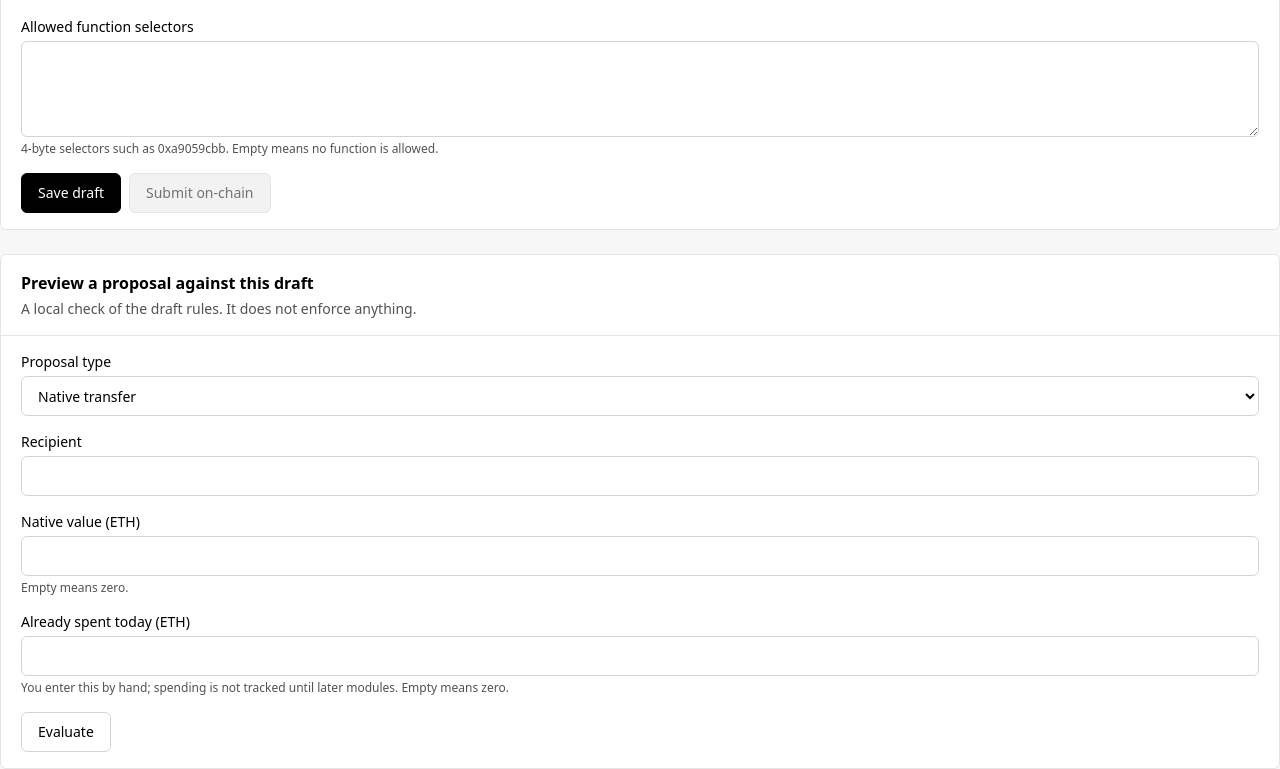
Test: PolicyWorkspace › previews a proposal as preview-only, allowed or denied
(page scrolled)
Check: the text "Preview a proposal against this draft" is shown, box [21,272,314,294]
Type "0x00000000000000000000000000000000000000A1" into the field labelled "Recipient".
click(640, 476); type("0x00000000000000000000000000000000000000A1")  # box [21,456,1259,496]
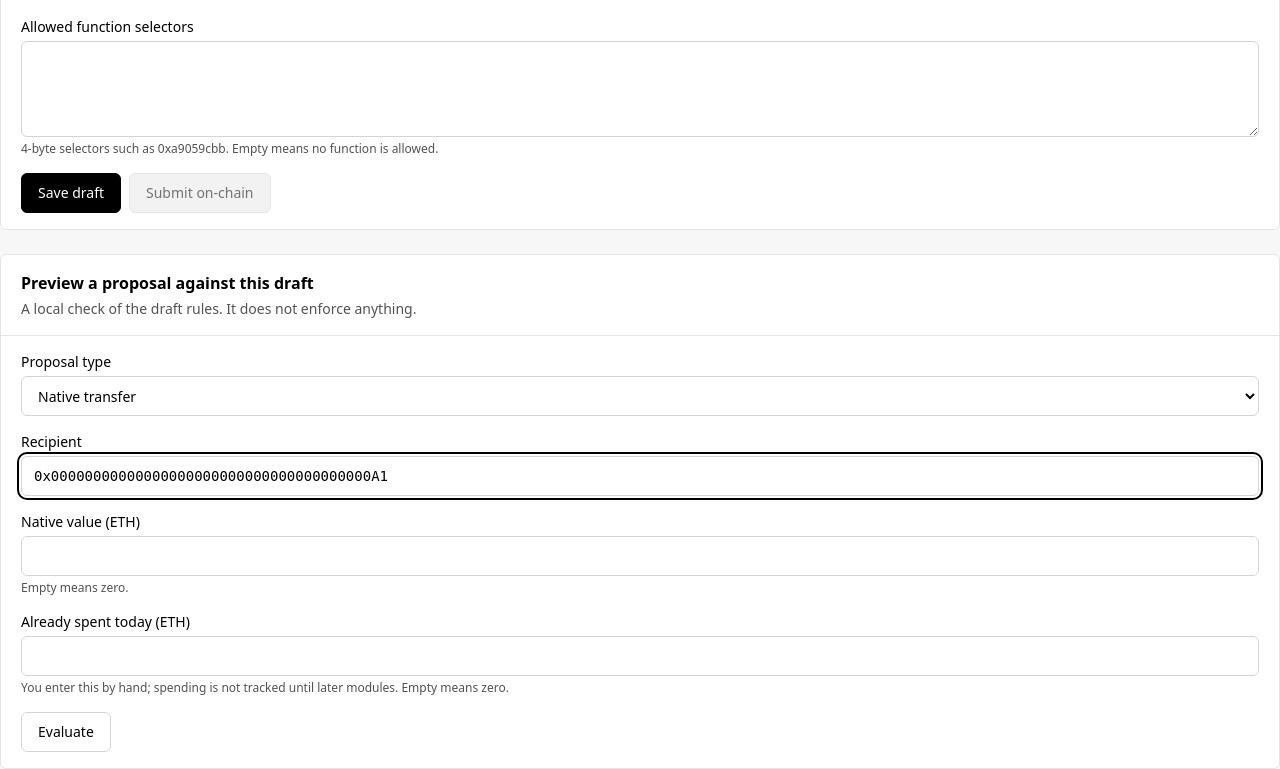
Type "0.05" into the field labelled "Native value (ETH)".
click(640, 556); type("0.05")  # box [21,536,1259,576]
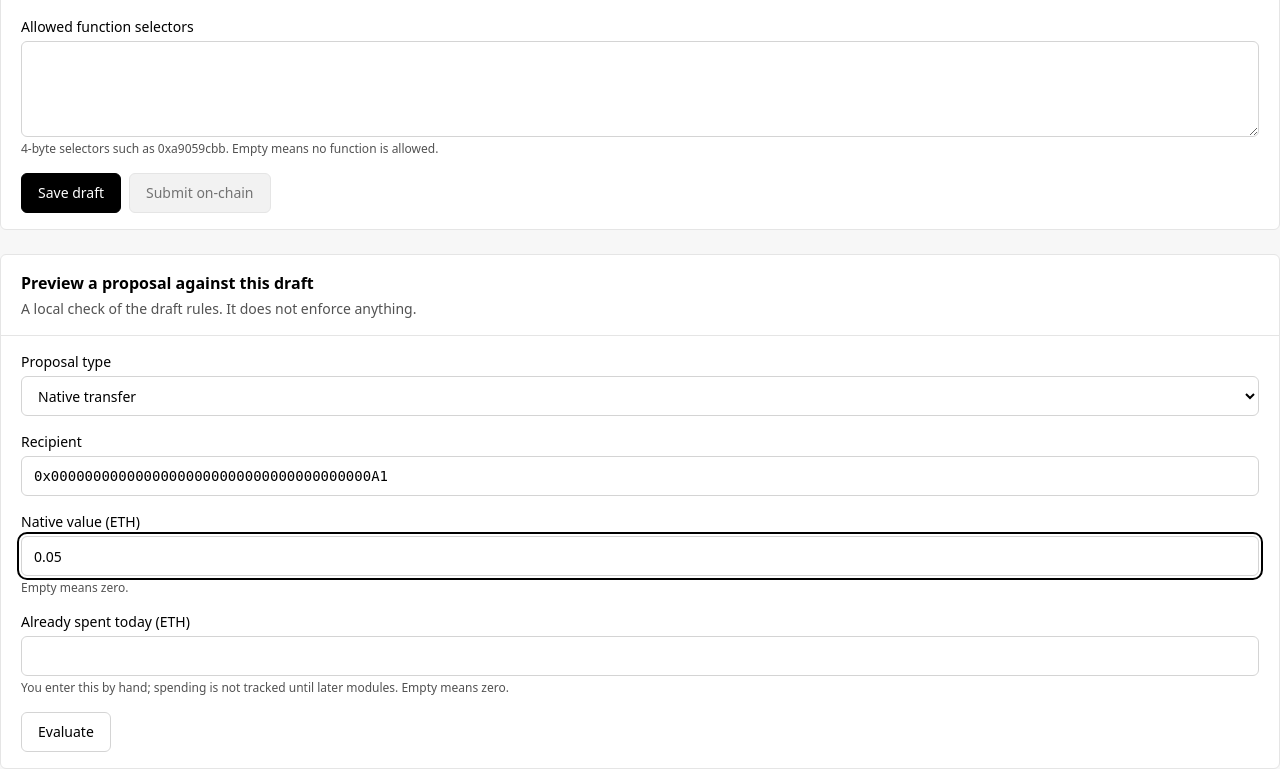
Click the button "Evaluate".
click(66, 732)  # box [21,712,111,752]
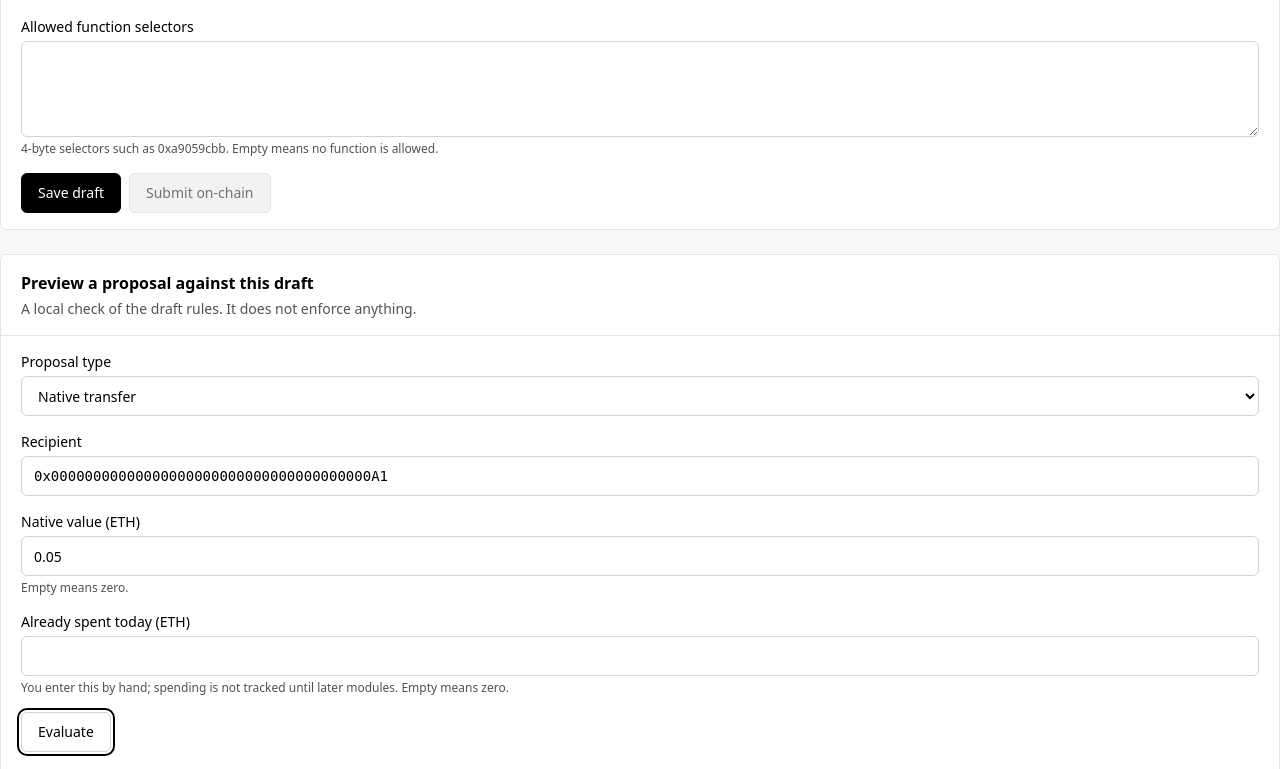
Replace the text in the field labelled "Native value (ETH)" with "0.5" at (640, 556), box [21,536,1259,576]
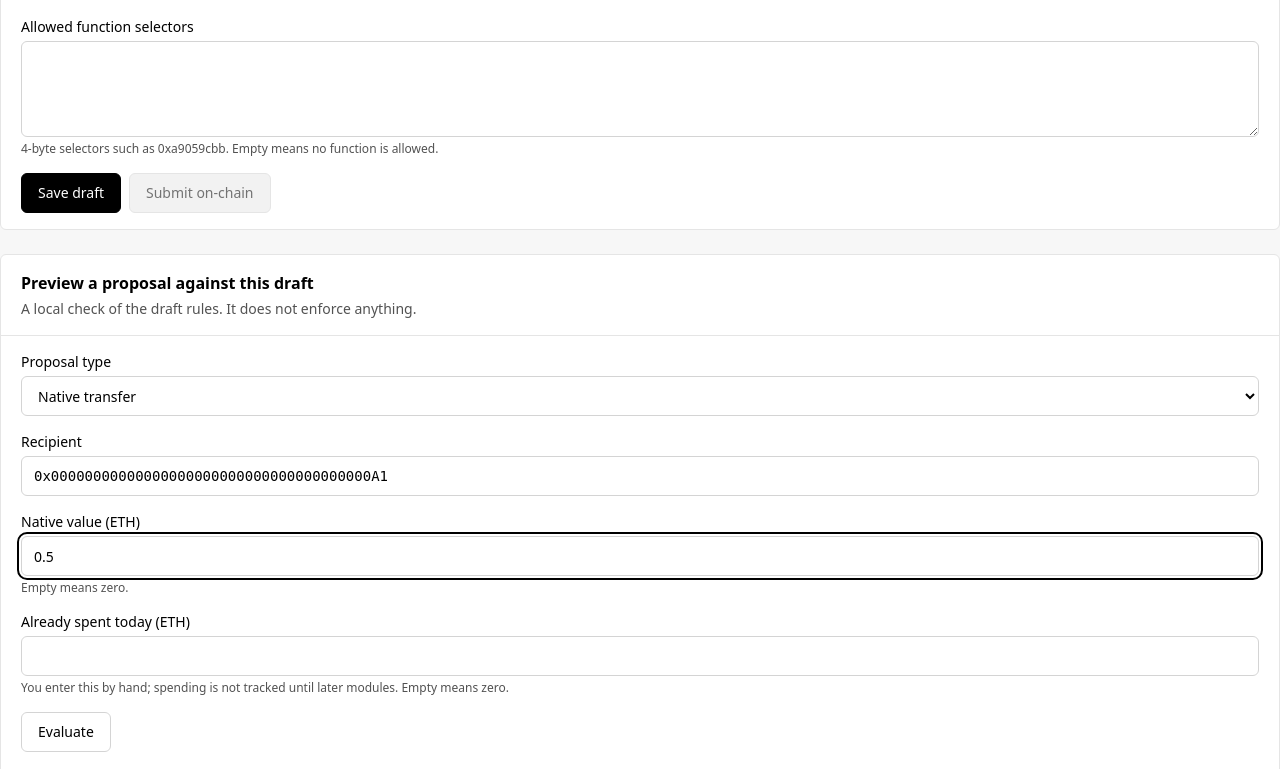
Click the button "Evaluate".
click(66, 732)  # box [21,712,111,752]
(page scrolled)
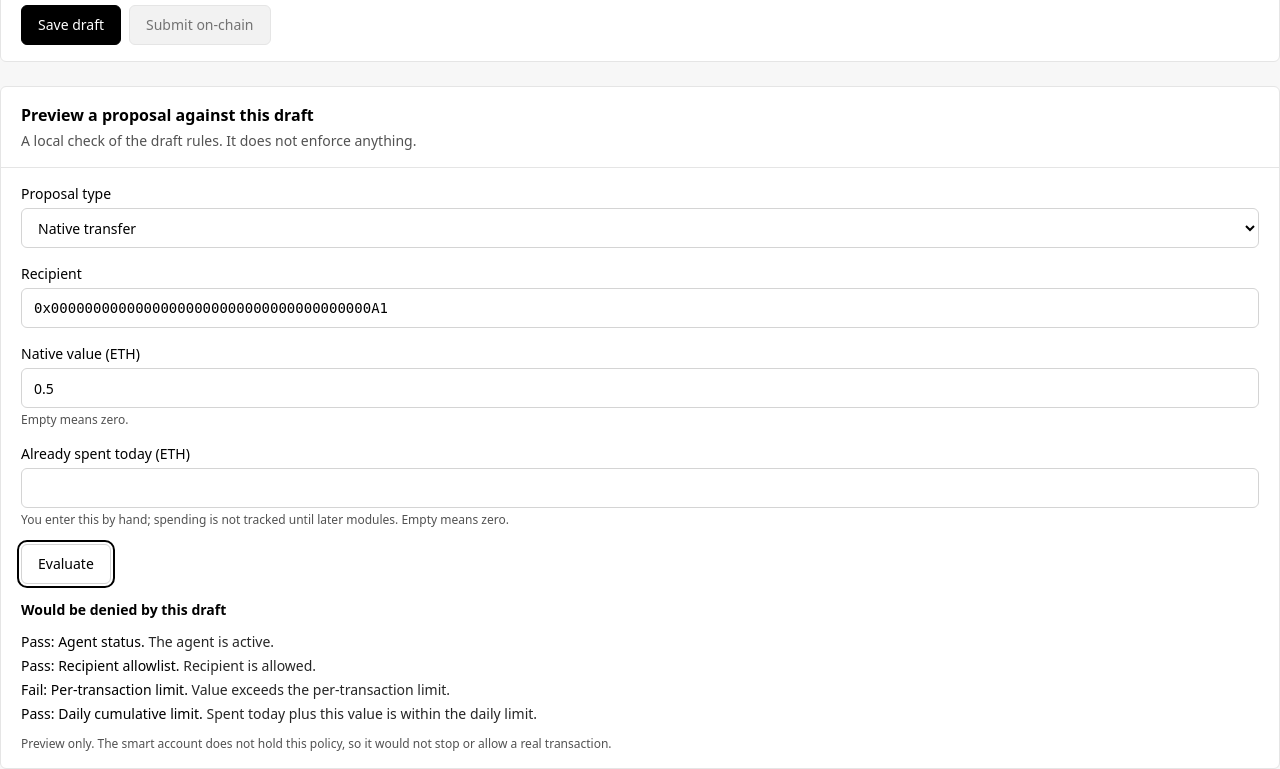
Check: the text "Would be denied by this draft" is shown, box [21,600,226,619]
Check: the text "Fail: Per-transaction limit." is shown, box [21,680,188,699]
